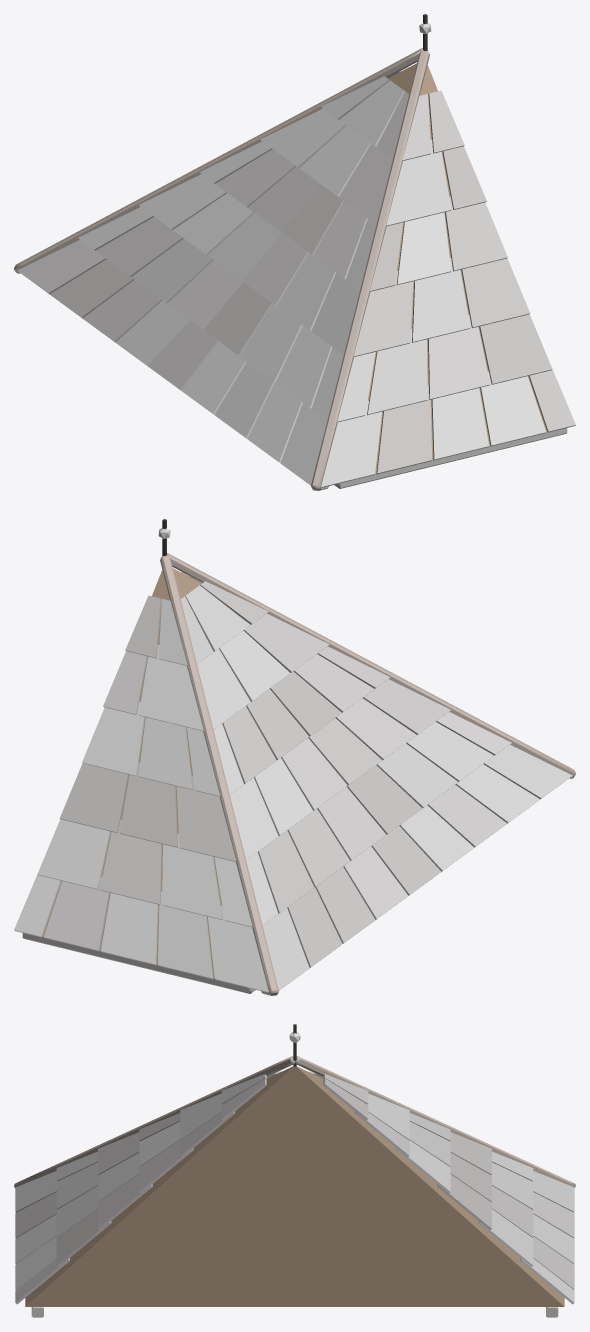
File: Kit_RealKeep_RoofA.fbx
3 renders of one model, top to bottom at view 1: azimuth 30°, elevation 25°; view 2: azimuth 150°, elevation 25°; view 3: azimuth 270°, elevation 25°, orthographic. The views are drawn at different scales.
Visible parts, largest first — view 1: Kit_RealKeep_RoofA_LOD0; view 2: Kit_RealKeep_RoofA_LOD0; view 3: Kit_RealKeep_RoofA_LOD0.
Part boxes in pixels (<box>): Kit_RealKeep_RoofA_LOD0: <box>14,14,575,490</box>; Kit_RealKeep_RoofA_LOD0: <box>14,519,575,995</box>; Kit_RealKeep_RoofA_LOD0: <box>14,1024,575,1317</box>.
Size of what is drawn, in the model's own units: 3.18 by 3.58 by 6.23.
